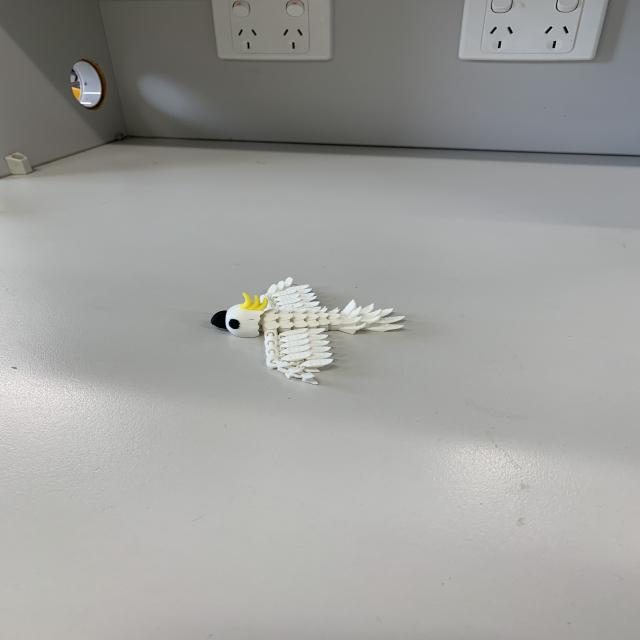cockatoo: (209, 272, 409, 382)
